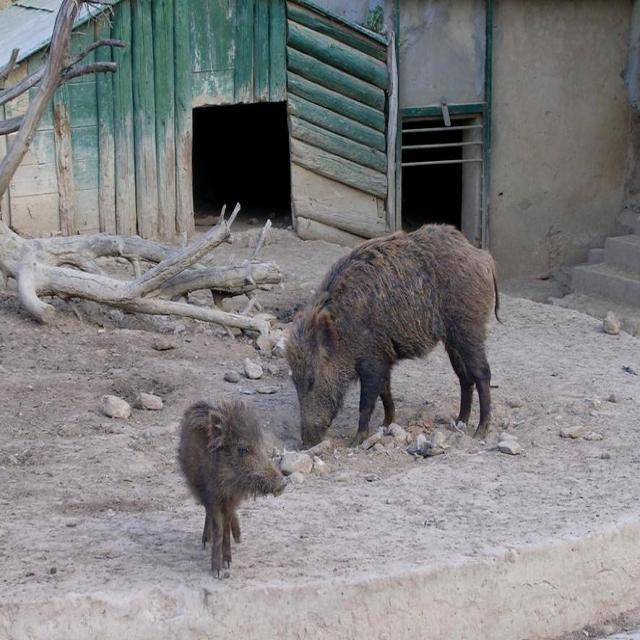pig: (286, 225, 499, 447), (178, 400, 285, 575)
